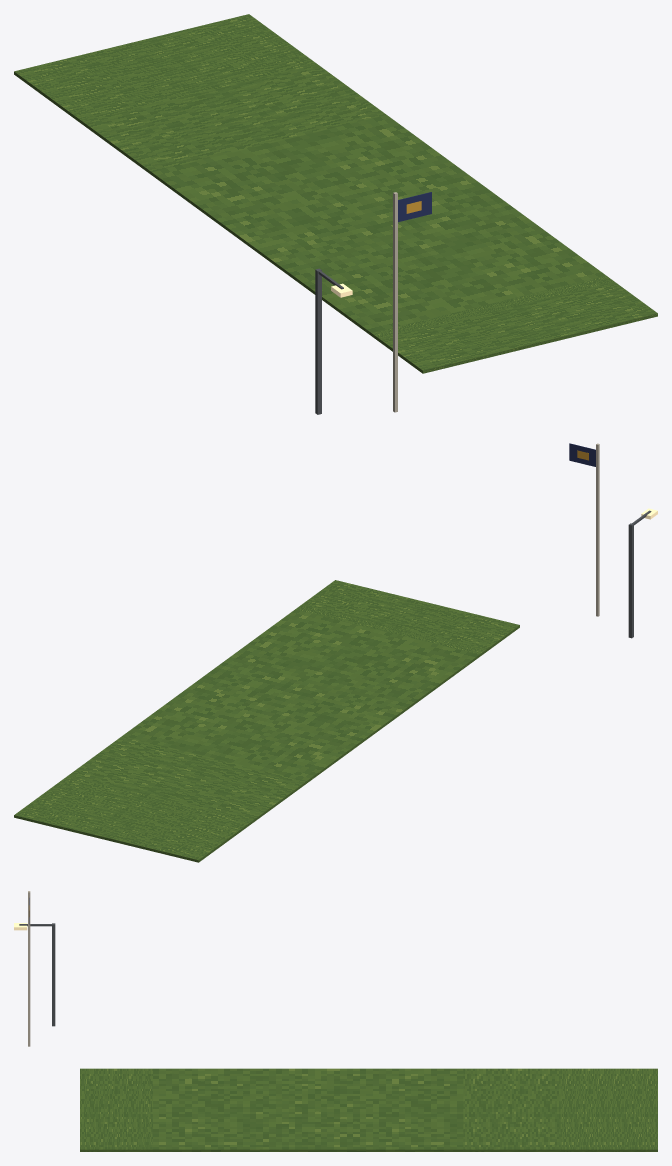
File: structure.glb
The picture shows the model from 3 angles, top to bottom: view 1: azimuth 30°, elevation 25°; view 2: azimuth 150°, elevation 25°; view 3: azimuth 270°, elevation 25°; orthographic projection. The views are drawn at different scales.
Visible parts, largest first — view 1: Box6, Box3, Box4, Box2, Box1, Box5, Box10, Box7, Box11; view 2: Box6, Box3, Box4, Box1, Box2, Box5, Box10, Box7; view 3: Box6, Box3, Box4, Box2, Box1, Box5, Box10, Box7.
Part boxes in pixels (x1,y1,x2,y2): Box6: [151, 115, 605, 335]; Box3: [83, 64, 386, 174]; Box4: [380, 282, 657, 373]; Box2: [48, 39, 317, 124]; Box1: [14, 14, 282, 99]; Box5: [371, 275, 614, 341]; Box10: [393, 192, 397, 412]; Box7: [315, 268, 321, 414]; Box11: [398, 192, 431, 221]; Box6: [122, 610, 479, 782]; Box3: [68, 736, 306, 822]; Box4: [302, 580, 519, 651]; Box1: [14, 795, 225, 862]; Box2: [41, 775, 252, 842]; Box5: [295, 604, 486, 656]; Box10: [596, 443, 599, 616]; Box7: [628, 523, 633, 638]; Box6: [153, 1068, 463, 1151]; Box3: [463, 1068, 560, 1151]; Box4: [80, 1068, 140, 1151]; Box2: [560, 1068, 609, 1151]; Box1: [609, 1068, 657, 1151]; Box5: [140, 1068, 152, 1151]; Box10: [28, 891, 30, 1046]; Box7: [52, 923, 55, 1026].
Size of the model in its own units: 12.2 by 7.13 by 26.44.
6 materials, 1 textured.
